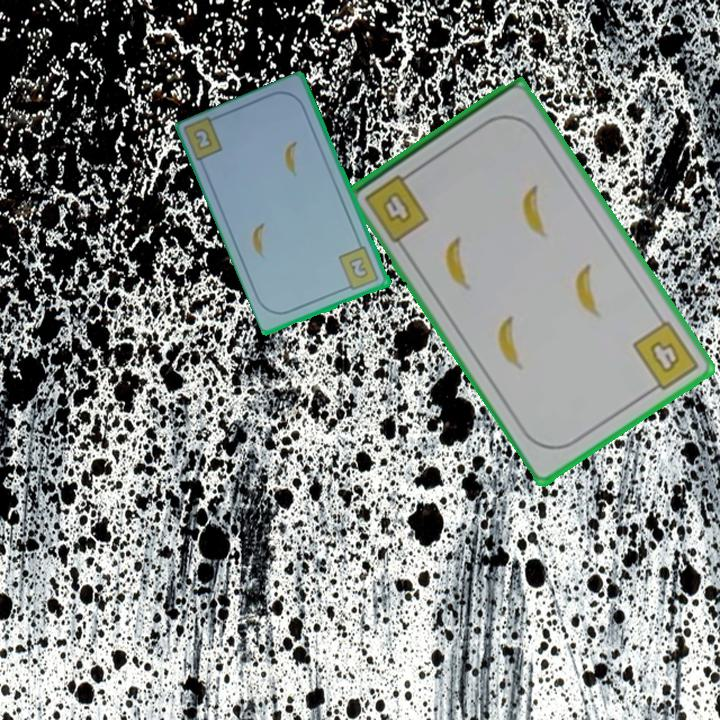2b: (335, 243, 382, 293), (190, 125, 216, 153)
4b: (629, 317, 702, 397), (360, 167, 432, 246)
